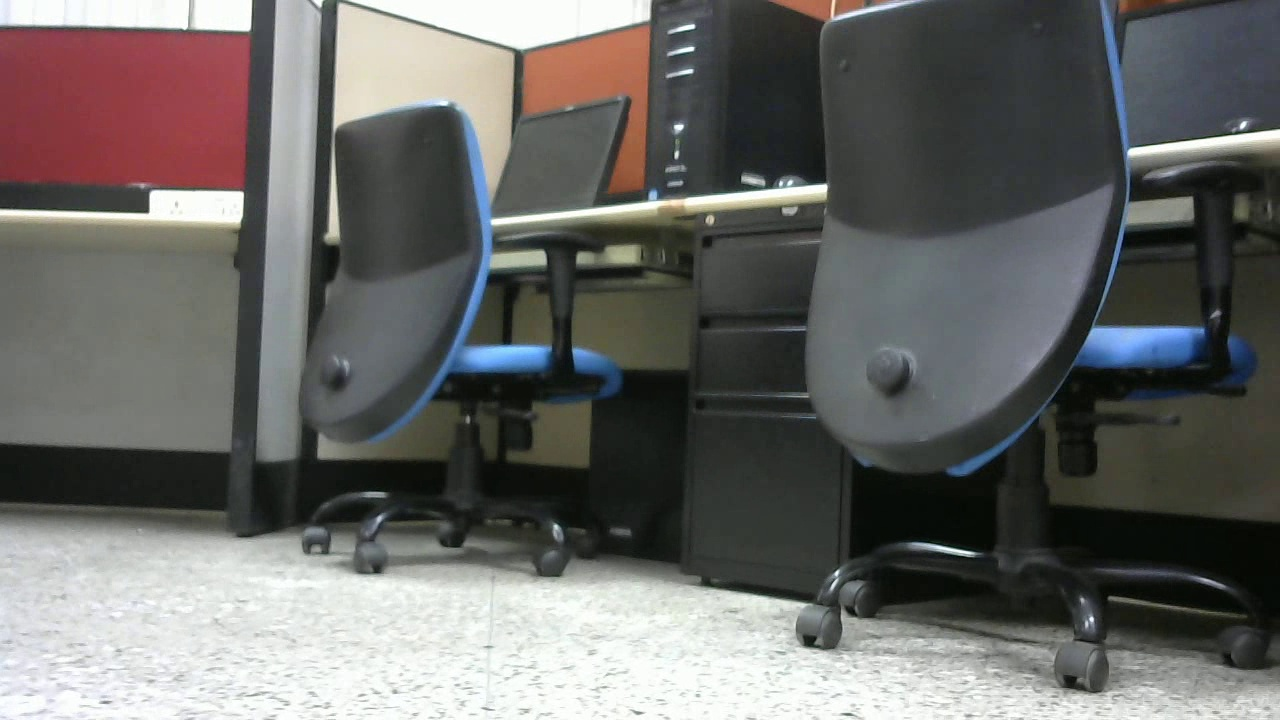chair: (798, 5, 1269, 681), (291, 90, 631, 579)
